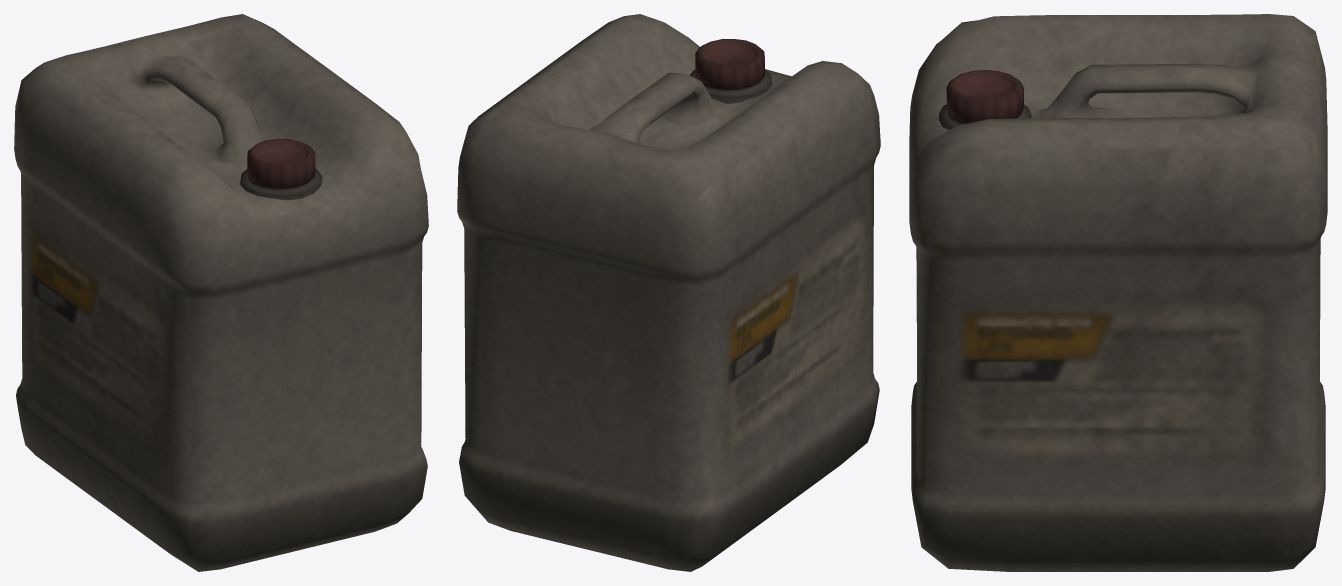
File: jerrycan_1.obj
The picture shows the model from 3 angles, left to right: view 1: azimuth 30°, elevation 25°; view 2: azimuth 150°, elevation 25°; view 3: azimuth 270°, elevation 25°; orthographic projection. The views are drawn at different scales.
Parts seen in each view (by area): view 1: jerrycan_1; view 2: jerrycan_1; view 3: jerrycan_1.
Boxes of the visible parts, left/top/right/bottom form: jerrycan_1: left=14, top=14, right=428, bottom=571; jerrycan_1: left=457, top=14, right=880, bottom=571; jerrycan_1: left=909, top=14, right=1327, bottom=571.
Size of the model in its own units: 0.3364 by 0.503 by 0.4205.
